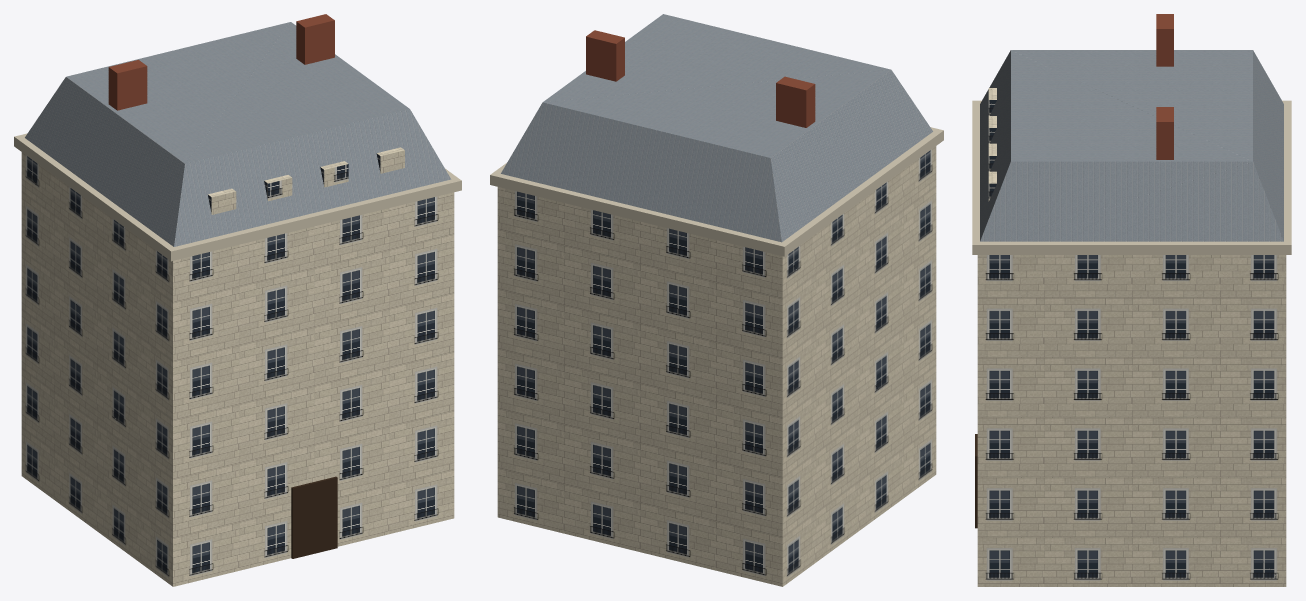
Rendered from predio_haussmann.glb.
3 renders of one model, left to right at view 1: azimuth 30°, elevation 25°; view 2: azimuth 150°, elevation 25°; view 3: azimuth 270°, elevation 25°, orthographic.
Visible parts, largest first — view 1: Predio; view 2: Predio; view 3: Predio.
Part boxes in pixels (box(x1,y1,x2,y2)): Predio: box(14, 14, 461, 586); Predio: box(490, 14, 943, 586); Predio: box(972, 14, 1291, 586).
Size of the model in its own units: 15.5 by 22.5 by 14.5.
Materials: 5 (2 with a texture image).
